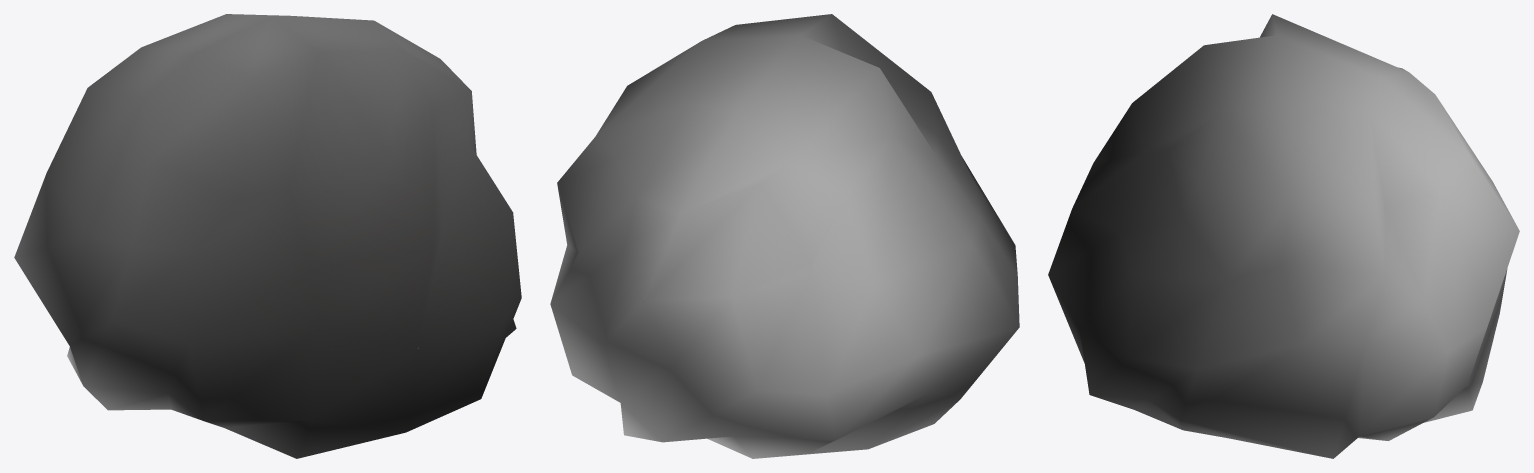
File: MediumRock.FBX
3 renders of one model, left to right at view 1: azimuth 30°, elevation 25°; view 2: azimuth 150°, elevation 25°; view 3: azimuth 270°, elevation 25°, orthographic. The views are drawn at different scales.
Parts seen in each view (by area): view 1: Box004; view 2: Box004; view 3: Box004.
Boxes of the visible parts, box(x1,y1,x2,y2) form: Box004: box(14, 14, 521, 458); Box004: box(550, 14, 1019, 458); Box004: box(1048, 14, 1519, 458).
Bounding box in the file's own units: 32.37 × 27.04 × 34.16.
Materials: 1 (1 with a texture image).
